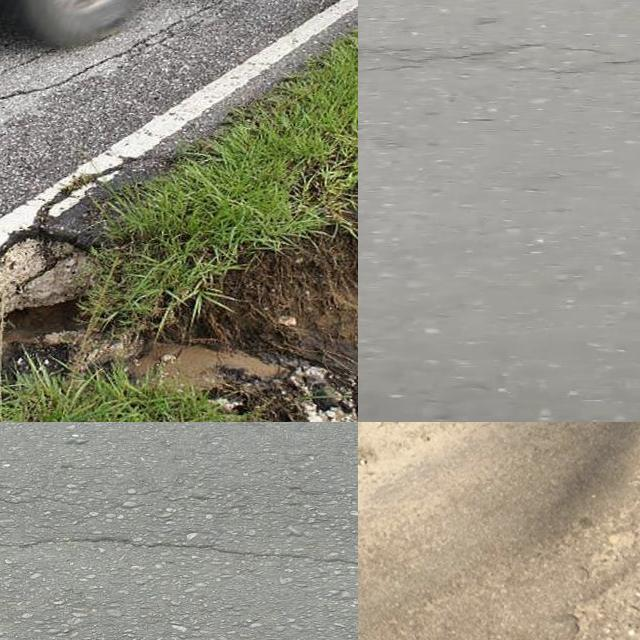Melintang: (358, 23, 640, 93)
Pinggir: (0, 222, 251, 422)
